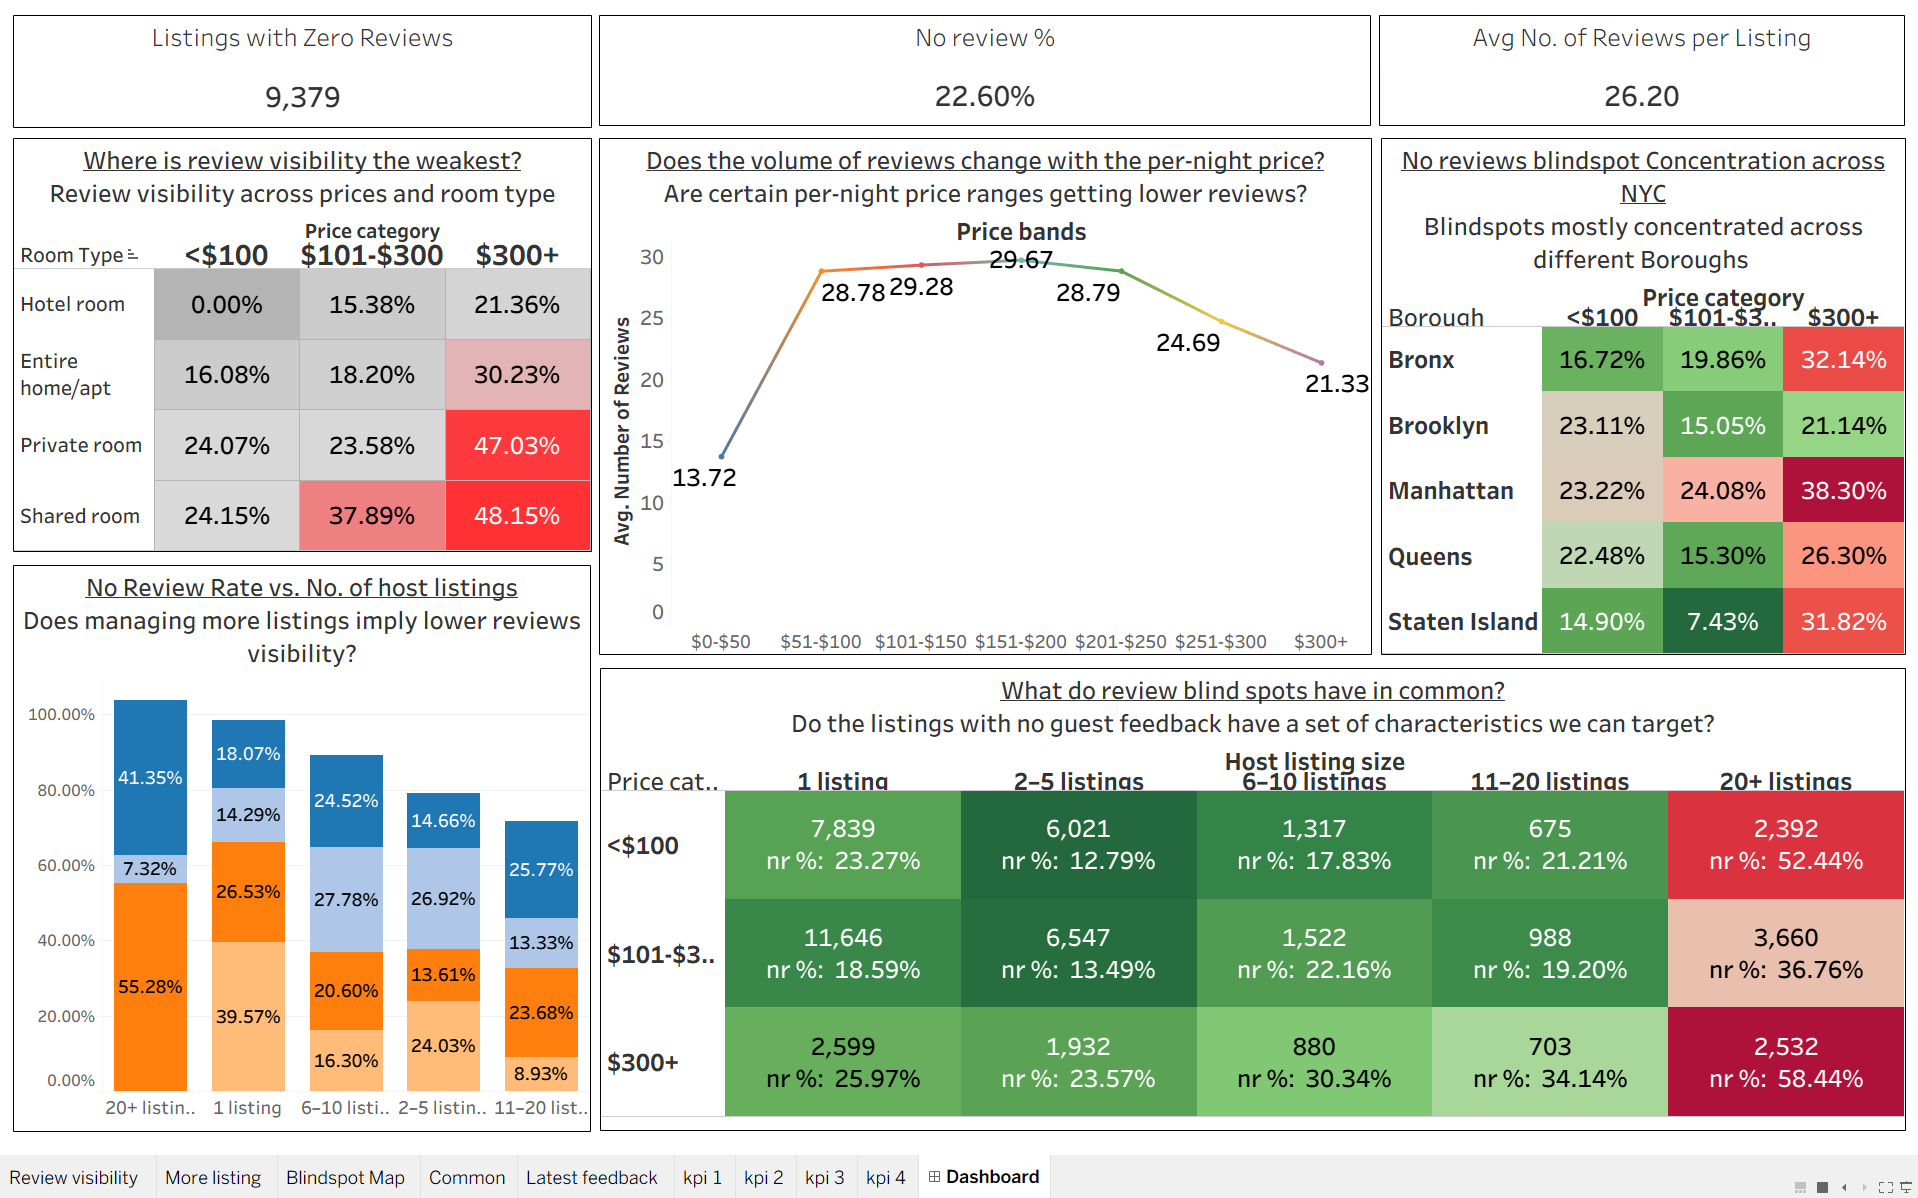

This screenshot's page, from the dashboard's own definition file:
{"tool":"tableau","page":{"name":"Dashboard","canvas":[1000,1000],"units":"permille","ordinal":0},"visuals":[{"type":"worksheet","title":"kpi 2","mark":"Automatic","box":[6.6,12.9,301.8,97.5]},{"type":"worksheet","title":"kpi 1","mark":"Automatic","box":[312,12.9,401.9,96.4]},{"type":"worksheet","title":"kpi 4","mark":"Automatic","box":[718.2,12.9,274,96.4]},{"type":"worksheet","title":"Review visibility","mark":"Automatic","rows":["Room Type"],"cols":["Calculation_3093114759929859"],"box":[6.6,119.9,301.8,358.4]},{"type":"worksheet","title":"Latest feedback","mark":"Line","rows":["Number of Reviews"],"cols":["Price category (copy)_4052235946770432"],"box":[312,119.9,402.5,447.7]},{"type":"worksheet","title":"Blindspot Map","mark":"Square","rows":["Borough"],"cols":["Calculation_3093114759929859"],"box":[719.4,119.9,273.4,447.7]},{"type":"worksheet","title":"More listing","mark":"Automatic","rows":["Calculation_3093114764808198"],"cols":["Calculation_3093114759516162"],"box":[6.6,488.8,301.2,491.2]},{"type":"worksheet","title":"Common","mark":"Square","rows":["Calculation_3093114759929859"],"cols":["Calculation_3093114759516162"],"box":[312.6,578.1,680.1,400.7]}]}

Visuals, with their boxes on the dashboard's canvas, which has no fixed pixel size, in thousandths of its width and height (x1, y1, x2, y2). These are canvas units, not pixel positions in the 1918x1198 screenshot, which may show the page scaled, cropped or inside an application window:
"kpi 2" worksheet: {"left": 7, "top": 13, "right": 308, "bottom": 110}
"kpi 1" worksheet: {"left": 312, "top": 13, "right": 714, "bottom": 109}
"kpi 4" worksheet: {"left": 718, "top": 13, "right": 992, "bottom": 109}
"Review visibility" worksheet: {"left": 7, "top": 120, "right": 308, "bottom": 478}
"Latest feedback" worksheet (Line marks): {"left": 312, "top": 120, "right": 714, "bottom": 568}
"Blindspot Map" worksheet (Square marks): {"left": 719, "top": 120, "right": 993, "bottom": 568}
"More listing" worksheet: {"left": 7, "top": 489, "right": 308, "bottom": 980}
"Common" worksheet (Square marks): {"left": 313, "top": 578, "right": 993, "bottom": 979}
